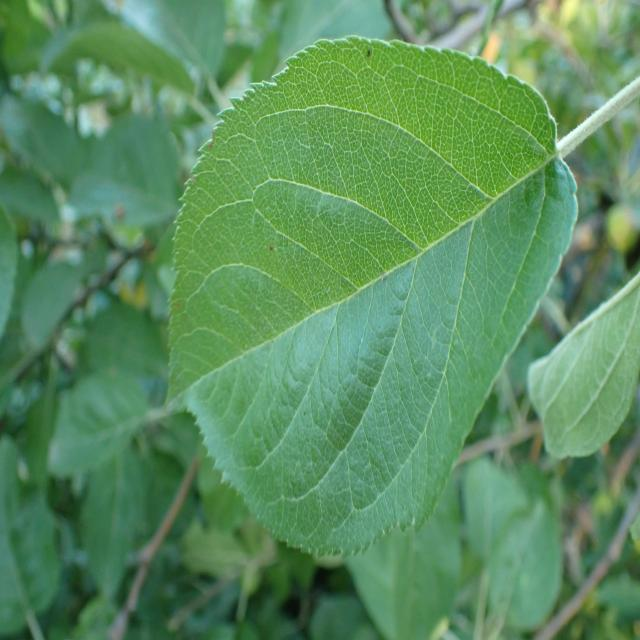healthy: (165, 35, 579, 560), (527, 271, 640, 460)
